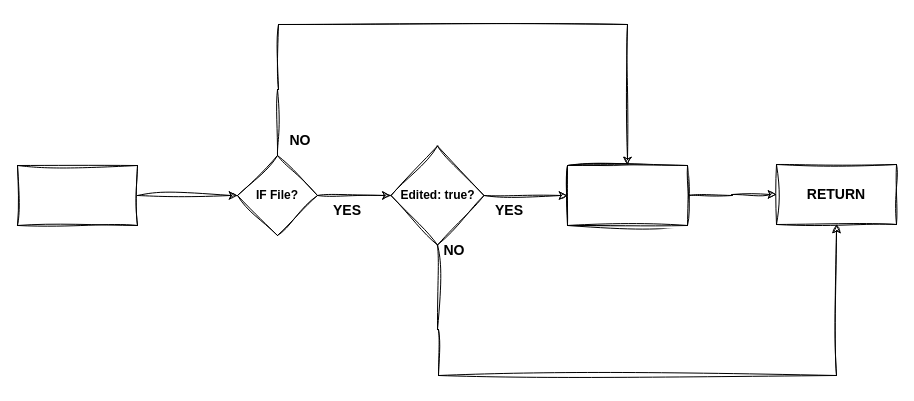
This 914x401 diagram has some shape labels left out. Here are the shapes that lost their labels. From the top down, the box of each, then its label:
(16, 164, 138, 226): REQUEST
(566, 164, 688, 226): CREATE
